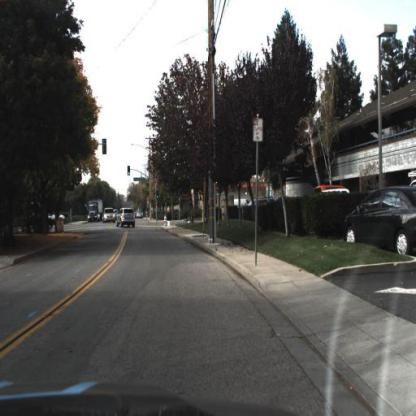car: (116, 205, 136, 230)
